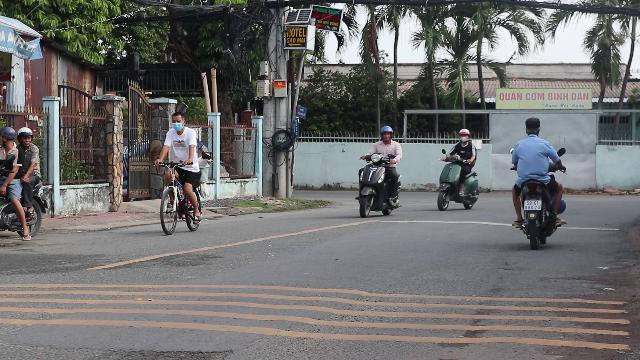helmet: (0, 126, 16, 148), (18, 126, 34, 146)
licenseplate: (524, 200, 540, 210)
motorcyclist: (507, 115, 567, 247), (0, 125, 48, 248)
nohelmet: (522, 116, 542, 136)
